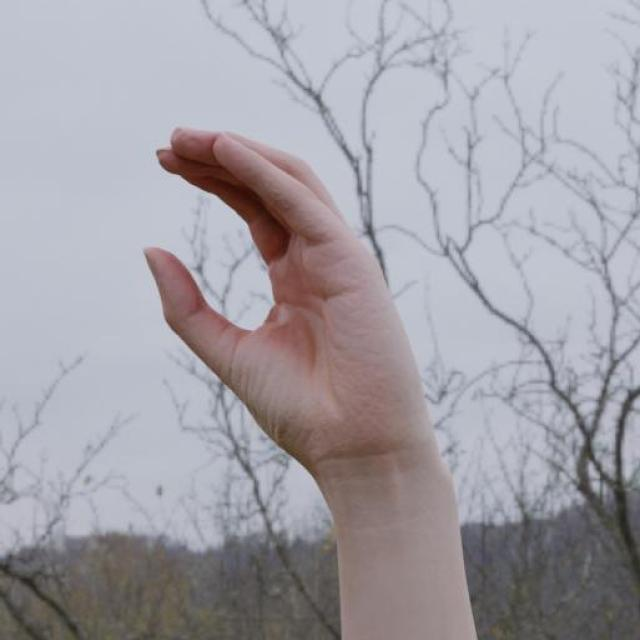C: (141, 125, 447, 474)
